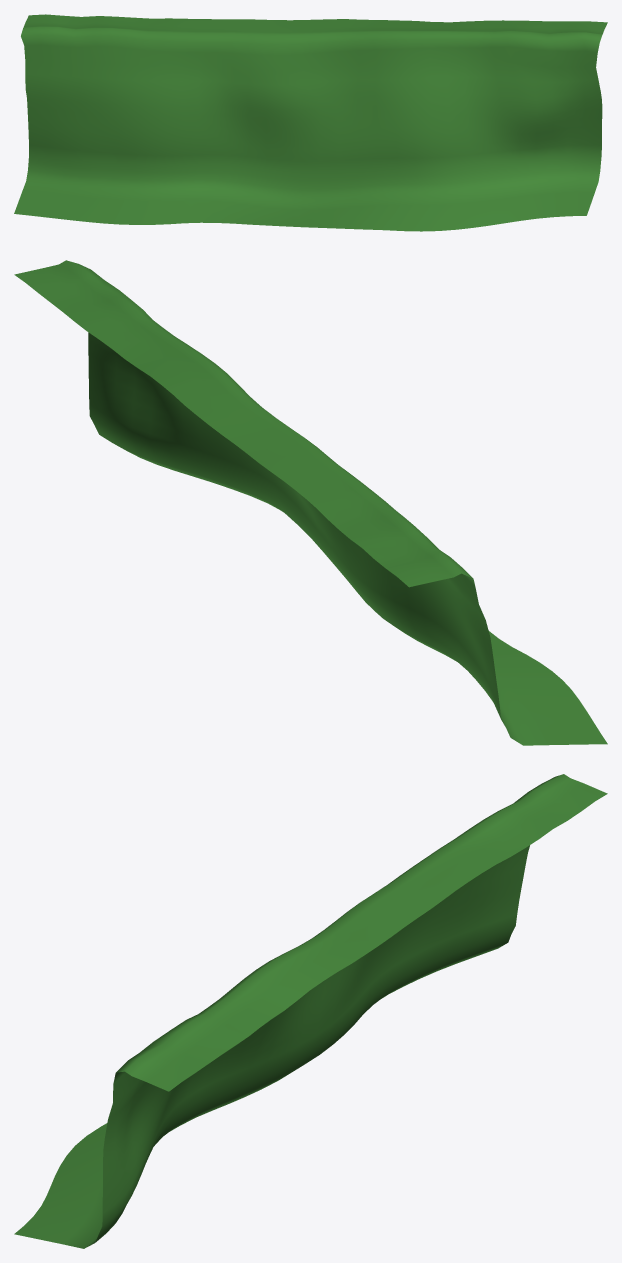
File: ParedeMontanhosa.fbx
3 views of the same model, one above another, from view 1: azimuth 30°, elevation 25°; view 2: azimuth 150°, elevation 25°; view 3: azimuth 270°, elevation 25° (orthographic). The views are drawn at different scales.
Visible parts, largest first — view 1: ParedeMontanhosa; view 2: ParedeMontanhosa; view 3: ParedeMontanhosa.
Part boxes in pixels (x1=…): ParedeMontanhosa: x1=14, y1=14, x2=607, y2=231; ParedeMontanhosa: x1=14, y1=260, x2=607, y2=745; ParedeMontanhosa: x1=14, y1=774, x2=607, y2=1248.
Size of the model in its own units: 2938 by 797 by 2092.
